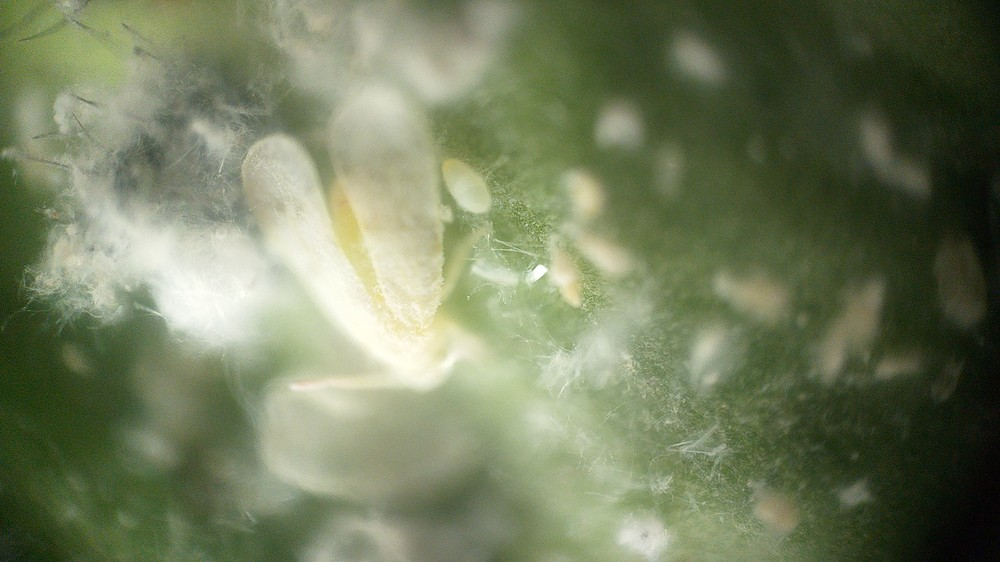Mosca Blanca: (227, 90, 576, 417)
